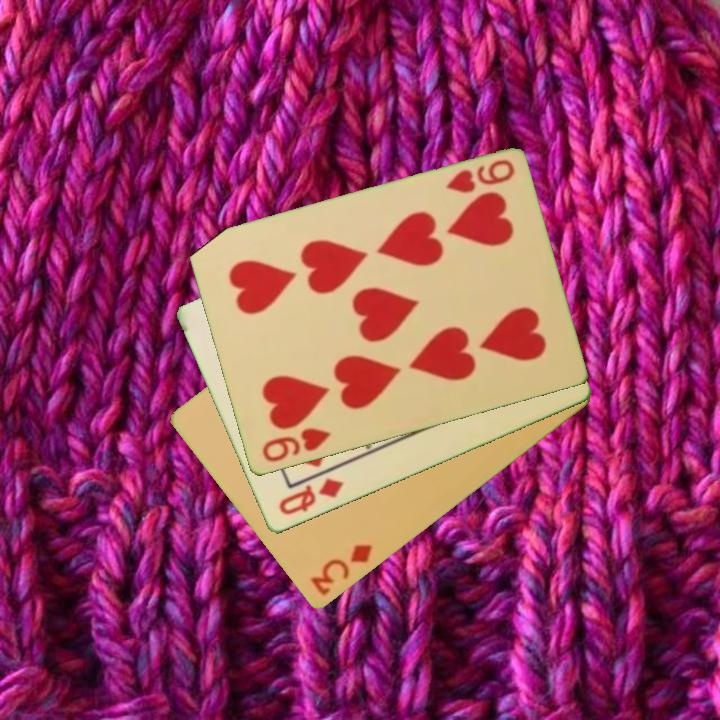3d: (307, 541, 375, 599)
9h: (258, 425, 334, 466), (442, 156, 518, 197)
Qd: (274, 475, 347, 519)
